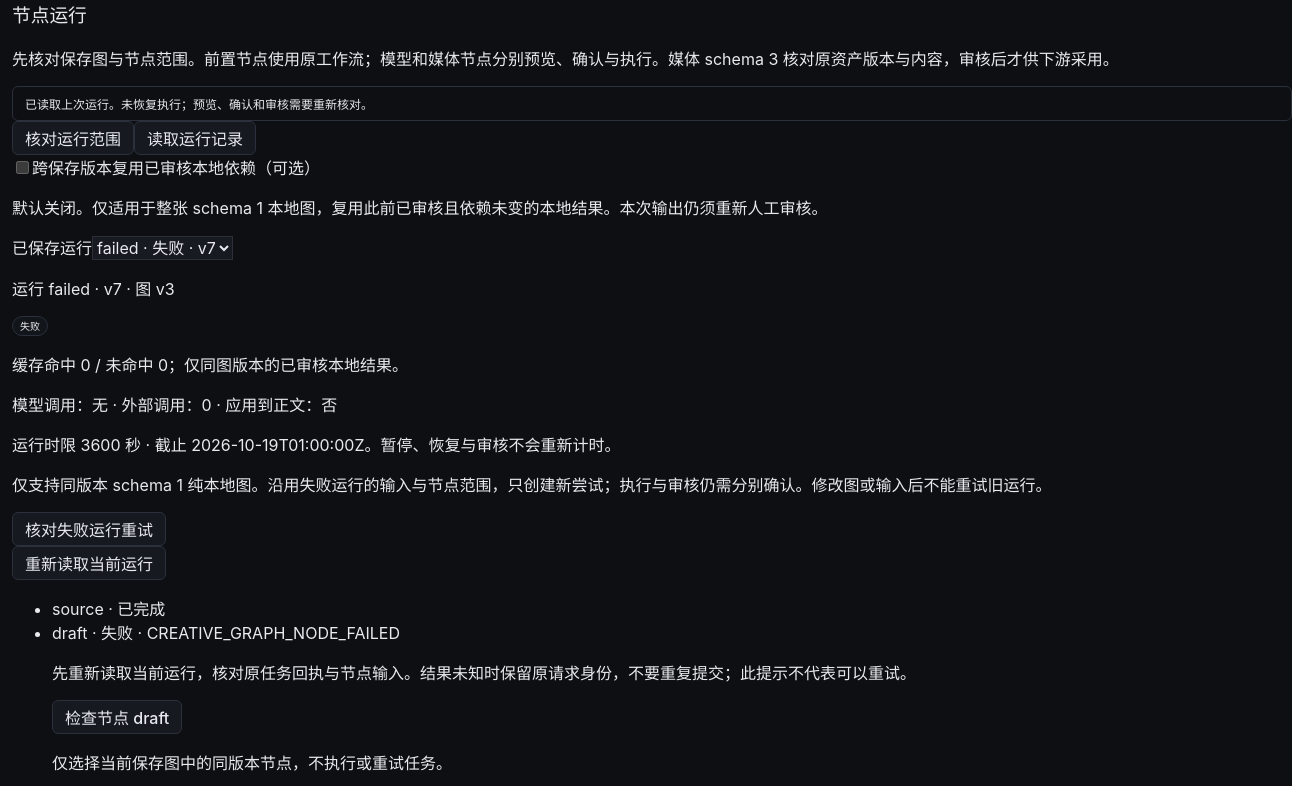
Test: failed pure-local retry controls › retains the same key after a lost reply and rereading the failed source
Click the button "核对失败运行重试".
click(89, 529)  # box x1=12 y1=512 x2=166 y2=546
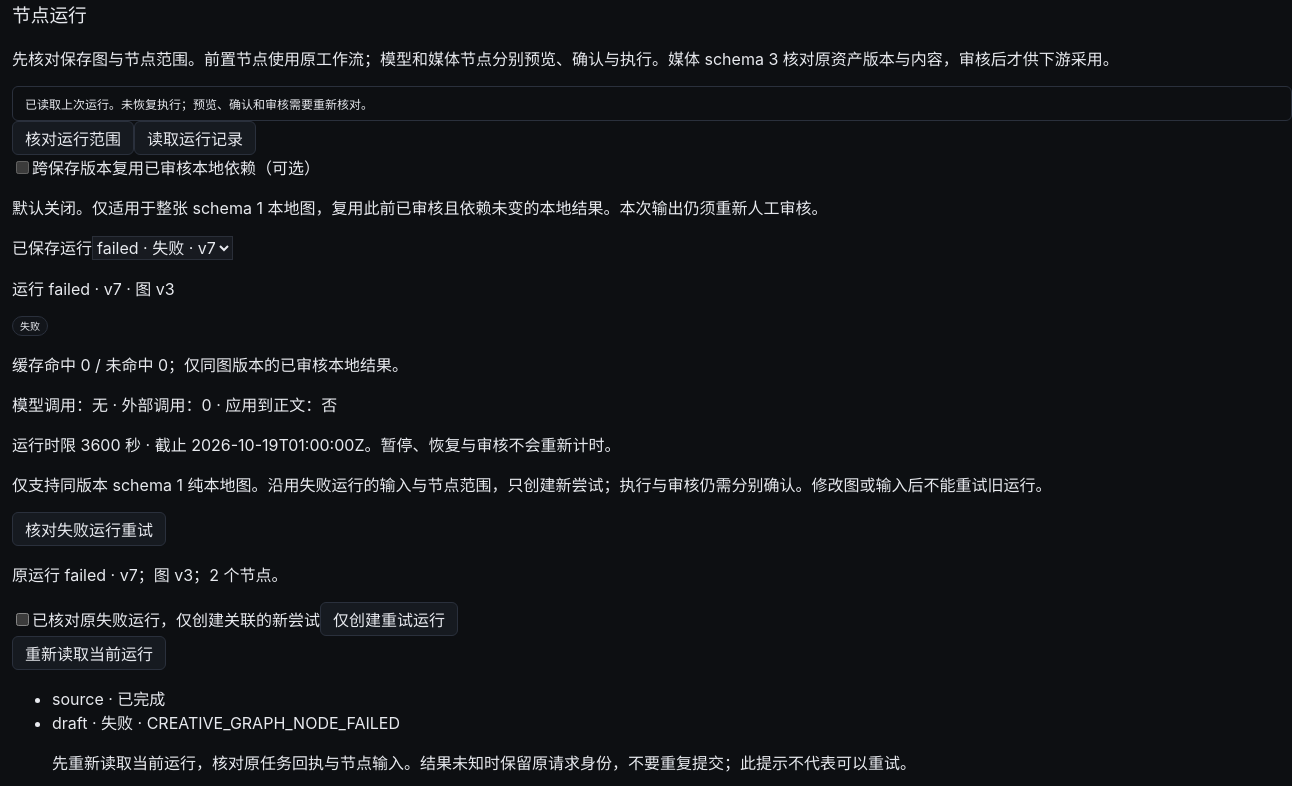
Expected: the checkbox labelled "已核对原失败运行，仅创建关联的新尝试" is shown
Click the checkbox labelled "已核对原失败运行，仅创建关联的新尝试".
click(22, 619)  # box x1=16 y1=613 x2=29 y2=626
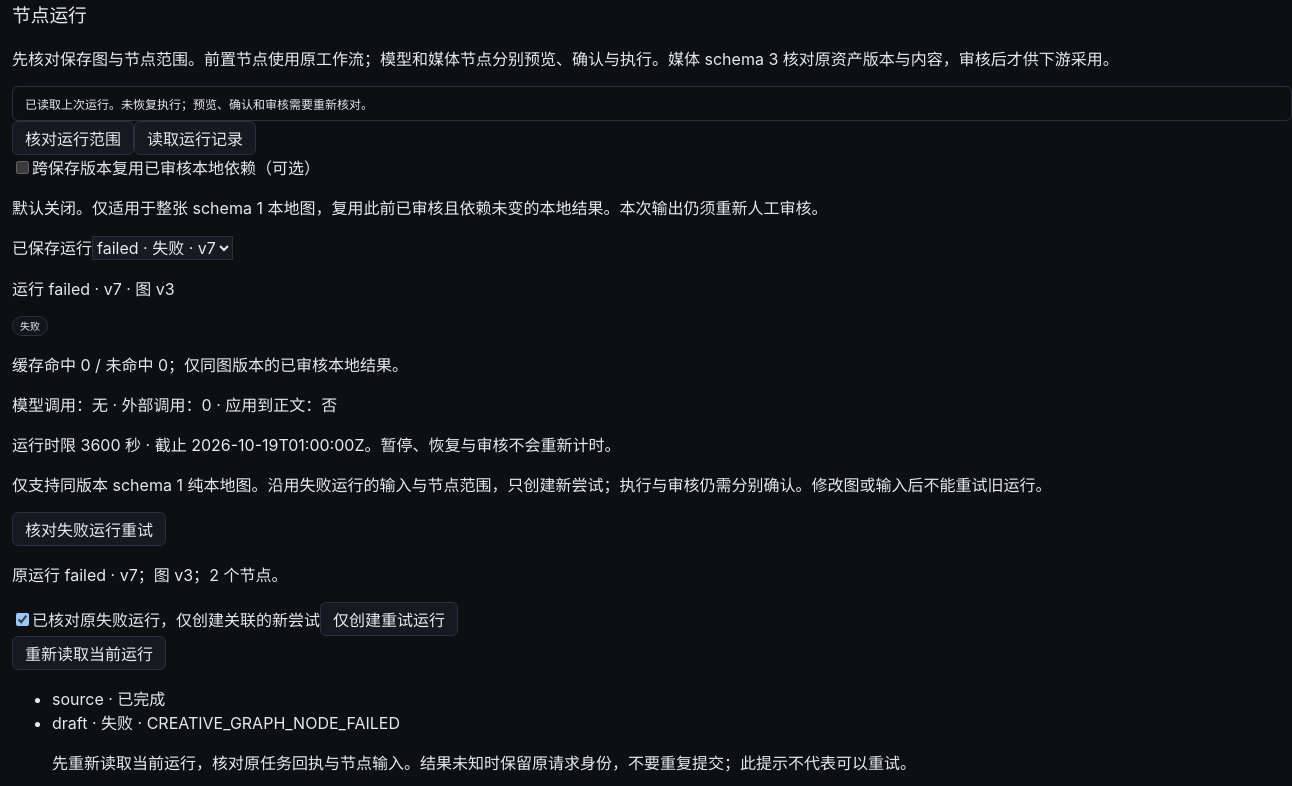
Click the button "仅创建重试运行".
click(389, 619)  # box x1=320 y1=602 x2=458 y2=636
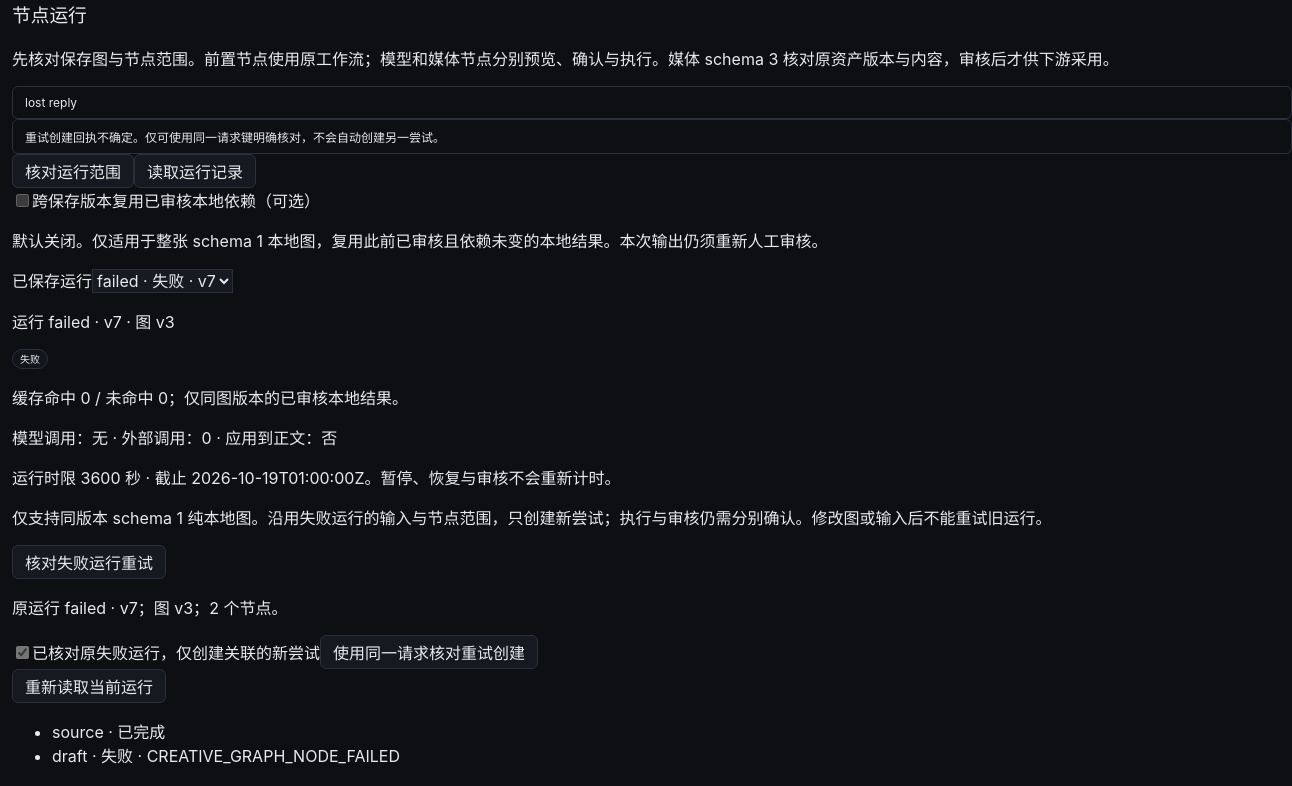
Expected: the button "使用同一请求核对重试创建" is shown, x1=320 y1=635 x2=538 y2=669
Click the button "重新读取当前运行".
click(89, 686)  # box x1=12 y1=669 x2=166 y2=703
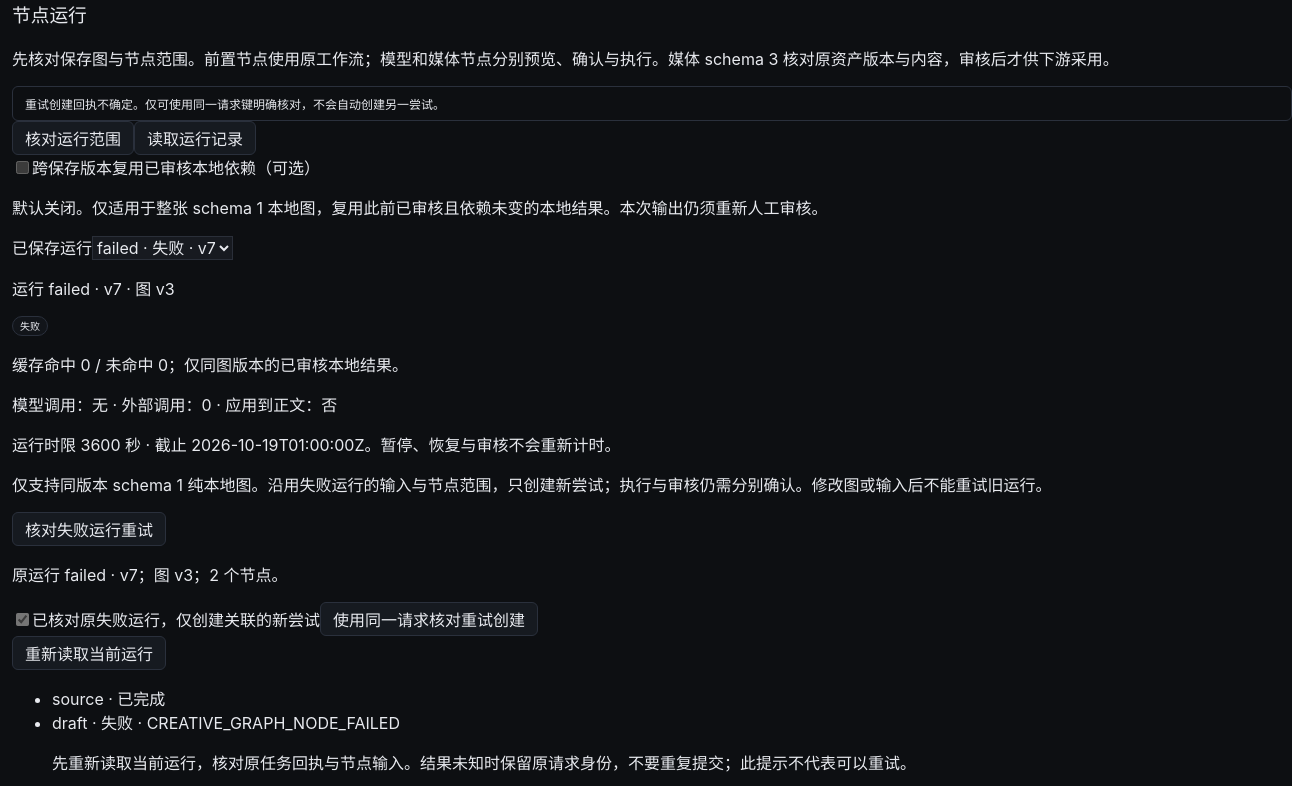
Expected: the button "使用同一请求核对重试创建" is enabled
Click the button "使用同一请求核对重试创建".
click(429, 619)  # box x1=320 y1=602 x2=538 y2=636
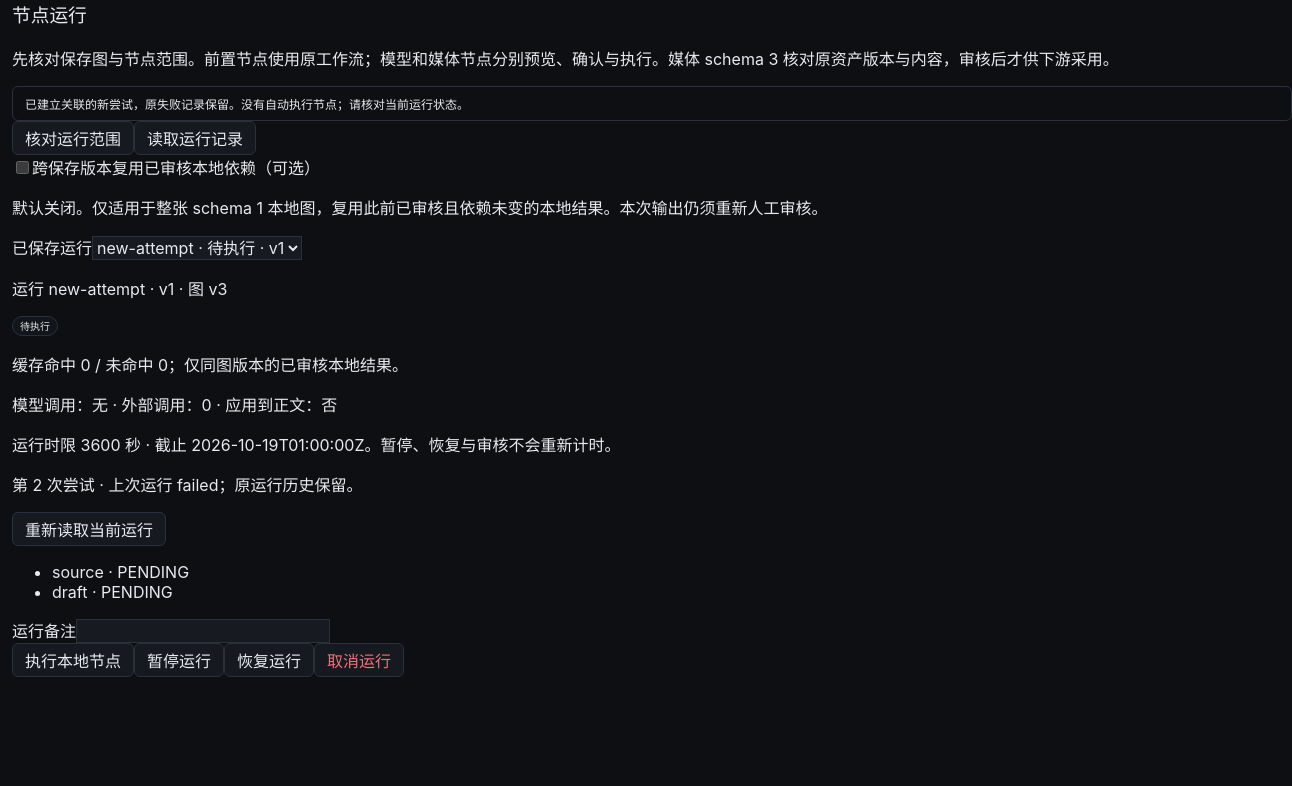
Expected: the text "第 2 次尝试 · 上次运行 failed；原运行历史保留。" is shown, x1=12 y1=475 x2=362 y2=495
